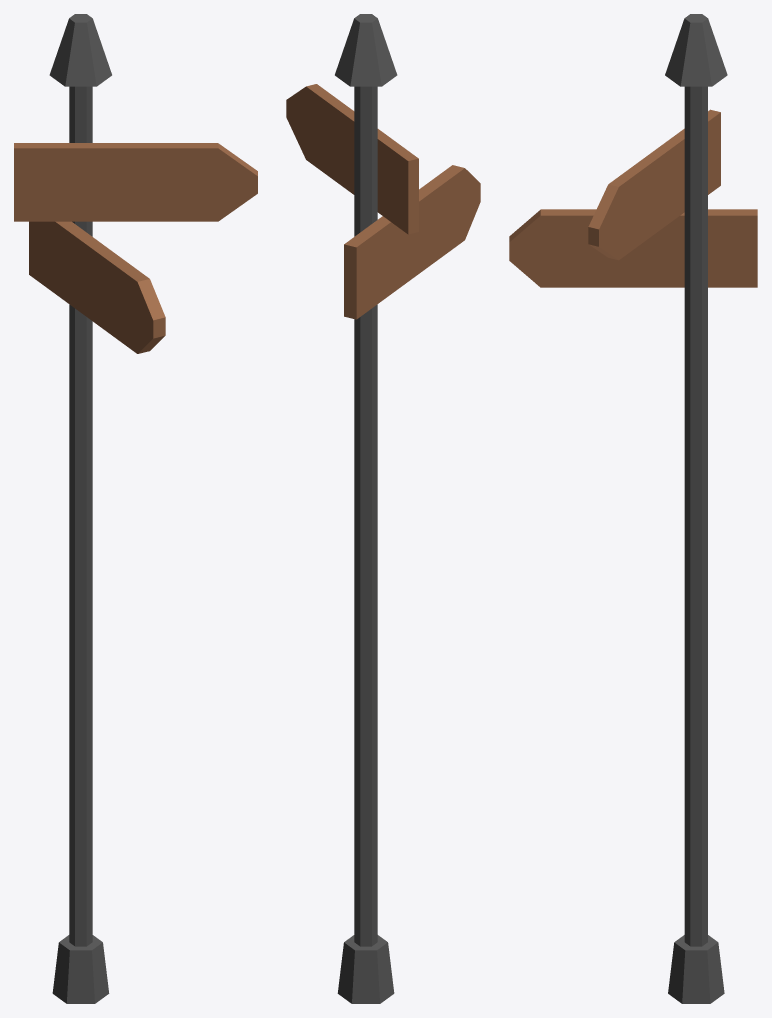
File: Small Road Sign.fbx
3 views of the same model, side by side, from view 1: azimuth 30°, elevation 25°; view 2: azimuth 150°, elevation 25°; view 3: azimuth 270°, elevation 25° (orthographic).
Parts seen in each view (by area): view 1: Small Road Sign; view 2: Small Road Sign; view 3: Small Road Sign.
Boxes of the visible parts, bbox=[...] form: Small Road Sign: bbox=[14, 14, 257, 1003]; Small Road Sign: bbox=[286, 14, 480, 1003]; Small Road Sign: bbox=[509, 14, 757, 1003].
Size of the model in its own units: 0.5584 by 0.6383 by 2.77.
